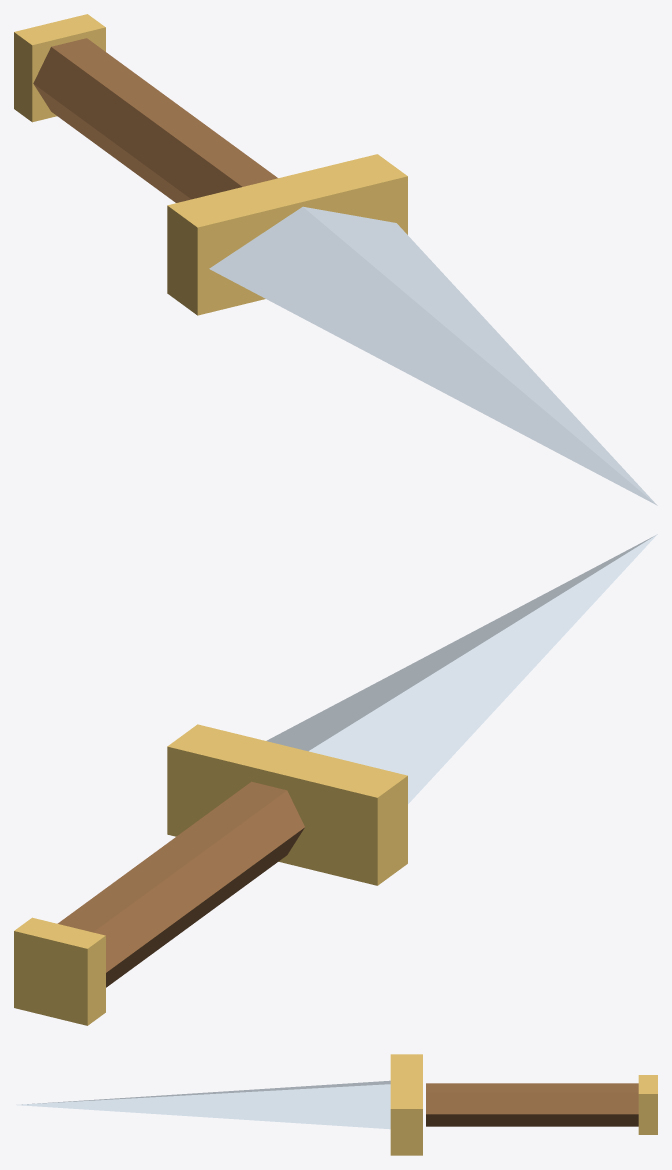
Rendered from throwing_dagger.glb.
The picture shows the model from 3 angles, top to bottom: view 1: azimuth 30°, elevation 25°; view 2: azimuth 150°, elevation 25°; view 3: azimuth 270°, elevation 25°; orthographic projection. The views are drawn at different scales.
Visible parts, largest first — view 1: throwing_dagger; view 2: throwing_dagger; view 3: throwing_dagger.
Boxes of the visible parts, box(x1,y1,x2,y2) form: throwing_dagger: box(14, 14, 657, 505); throwing_dagger: box(14, 534, 657, 1025); throwing_dagger: box(17, 1054, 657, 1155).
Bounding box in the file's own units: 0.1 × 0.04 × 0.5.
